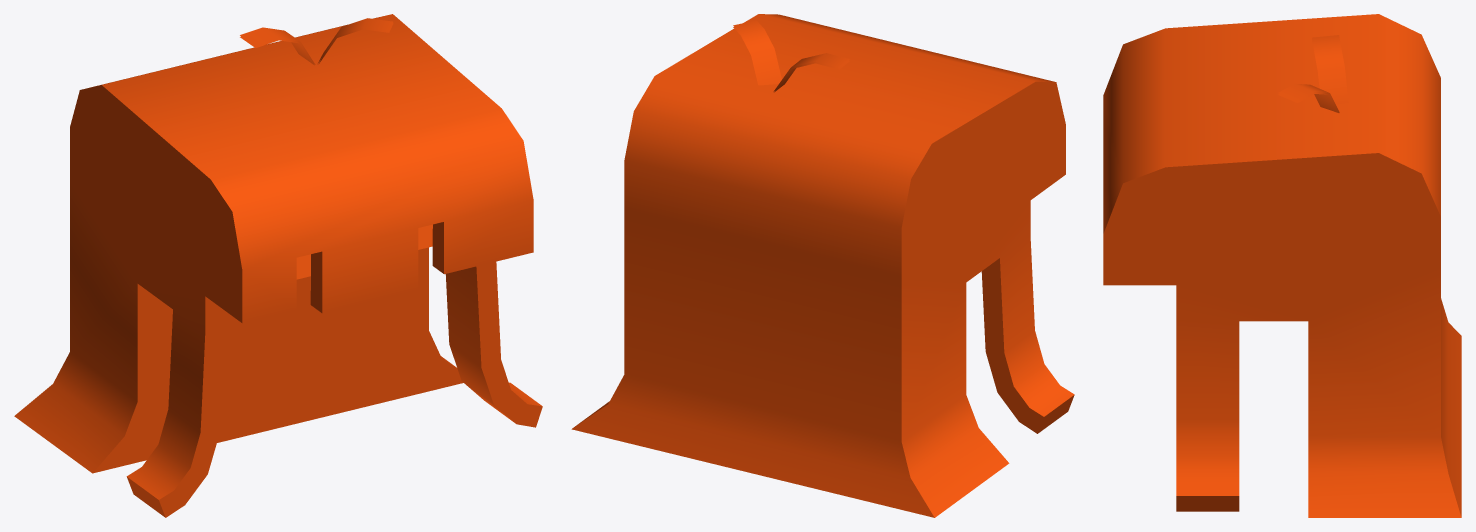
The model's file is Hair Female 03.FBX.
3 views of the same model, side by side, from view 1: azimuth 30°, elevation 25°; view 2: azimuth 150°, elevation 25°; view 3: azimuth 270°, elevation 25° (orthographic). The views are drawn at different scales.
Parts seen in each view (by area): view 1: Hair Female 03; view 2: Hair Female 03; view 3: Hair Female 03.
Part boxes in pixels (x1=…): Hair Female 03: x1=14, y1=14, x2=542, y2=517; Hair Female 03: x1=571, y1=14, x2=1074, y2=517; Hair Female 03: x1=1103, y1=14, x2=1461, y2=517.
Size of the model in its own units: 68.7 by 66.39 by 56.72.
Materials: 1 (1 with a texture image).
